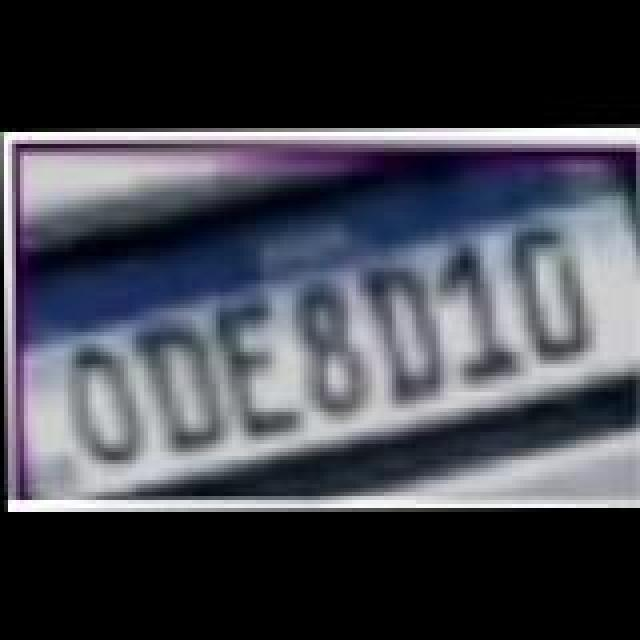1: (438, 248, 522, 388)
8: (292, 278, 372, 414)
D: (512, 222, 600, 362), (134, 322, 226, 450), (362, 264, 446, 404)
E: (214, 296, 298, 436)
O: (64, 346, 144, 470)
